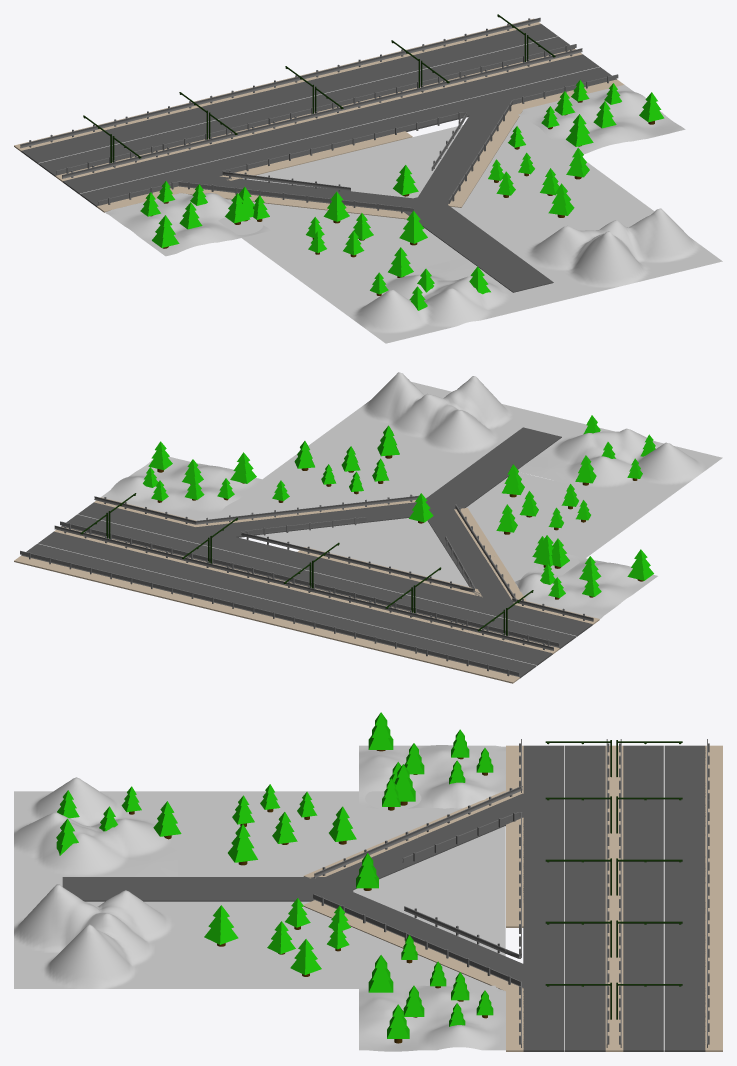
Rendered from mortoway_exitentrance.fbx.
The picture shows the model from 3 angles, top to bottom: view 1: azimuth 30°, elevation 25°; view 2: azimuth 150°, elevation 25°; view 3: azimuth 270°, elevation 25°; orthographic projection. The views are drawn at different scales.
Parts seen in each view (by area): view 1: Plane_2, Plane_1, Plane, Hills_2, Hills, Road_6, Road_5, Pavement_2, Pavement_2_11, Pavement_2_7, Pavement_2_5, Pavement_2_2 (+26 smaller); view 2: Plane_2, Plane_1, Plane, Hills_2, Hills, Road_6, Road_5, Road_2, Road_6_2, Road_8, Road_12, Road (+28 smaller); view 3: Plane_2, Plane_1, Plane, Hills_2, Hills, Road_5, Road_6, Road_11, Pavement_2_11, Road_12, Pavement_2_12, Pavement_2_6 (+37 smaller).
Boxes of the visible parts, left/top/right/bottom form: Plane_2: left=317, top=208, right=722, bottom=343; Plane_1: left=249, top=162, right=653, bottom=293; Plane: left=191, top=116, right=574, bottom=243; Hills_2: left=518, top=85, right=685, bottom=155; Hills: left=105, top=193, right=270, bottom=256; Road_6: left=453, top=237, right=553, bottom=292; Road_5: left=392, top=195, right=492, bottom=248; Pavement_2: left=63, top=156, right=185, bottom=194; Pavement_2_11: left=477, top=54, right=599, bottom=92; Pavement_2_7: left=371, top=80, right=493, bottom=118; Pavement_2_5: left=265, top=106, right=387, bottom=143; Pavement_2_2: left=21, top=125, right=143, bottom=163; Plane_2: left=334, top=372, right=722, bottom=505; Plane_1: left=269, top=427, right=656, bottom=553; Plane: left=213, top=475, right=590, bottom=595; Hills_2: left=101, top=456, right=265, bottom=520; Hills: left=515, top=553, right=657, bottom=618; Road_6: left=465, top=427, right=561, bottom=479; Road_5: left=426, top=469, right=504, bottom=516; Road_2: left=435, top=629, right=552, bottom=665; Road_6_2: left=241, top=581, right=358, bottom=617; Road_8: left=139, top=556, right=256, bottom=592; Road_12: left=38, top=531, right=154, bottom=567; Road: left=475, top=599, right=592, bottom=636; Plane_2: left=14, top=777, right=178, bottom=988; Plane_1: left=178, top=791, right=342, bottom=988; Plane: left=341, top=791, right=505, bottom=988; Hills_2: left=359, top=985, right=505, bottom=1051; Hills: left=359, top=745, right=505, bottom=808; Road_5: left=208, top=877, right=353, bottom=901; Road_6: left=62, top=877, right=209, bottom=901; Road_11: left=523, top=988, right=563, bottom=1051; Pavement_2_11: left=565, top=988, right=605, bottom=1051; Road_12: left=623, top=988, right=663, bottom=1051; Pavement_2_12: left=665, top=988, right=705, bottom=1051; Pavement_2_6: left=665, top=864, right=705, bottom=926.
Size of the model in its own units: 12269 by 1013 by 12069.
